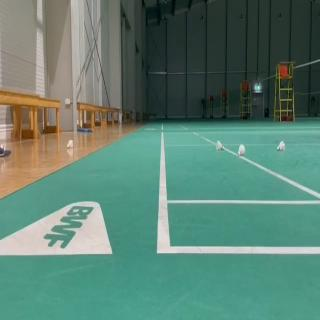Shuttle: (276, 139, 286, 152), (216, 139, 224, 151), (238, 143, 245, 156), (66, 138, 74, 149)
